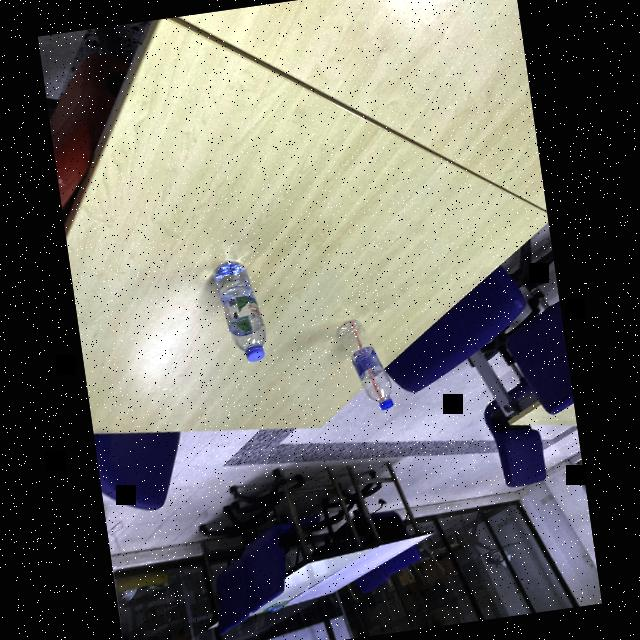plastic_bottle: (207, 255, 273, 367), (332, 310, 399, 420)
plastic_bottle_cap: (244, 344, 266, 364), (380, 398, 393, 411)
straw: (350, 318, 385, 406)
